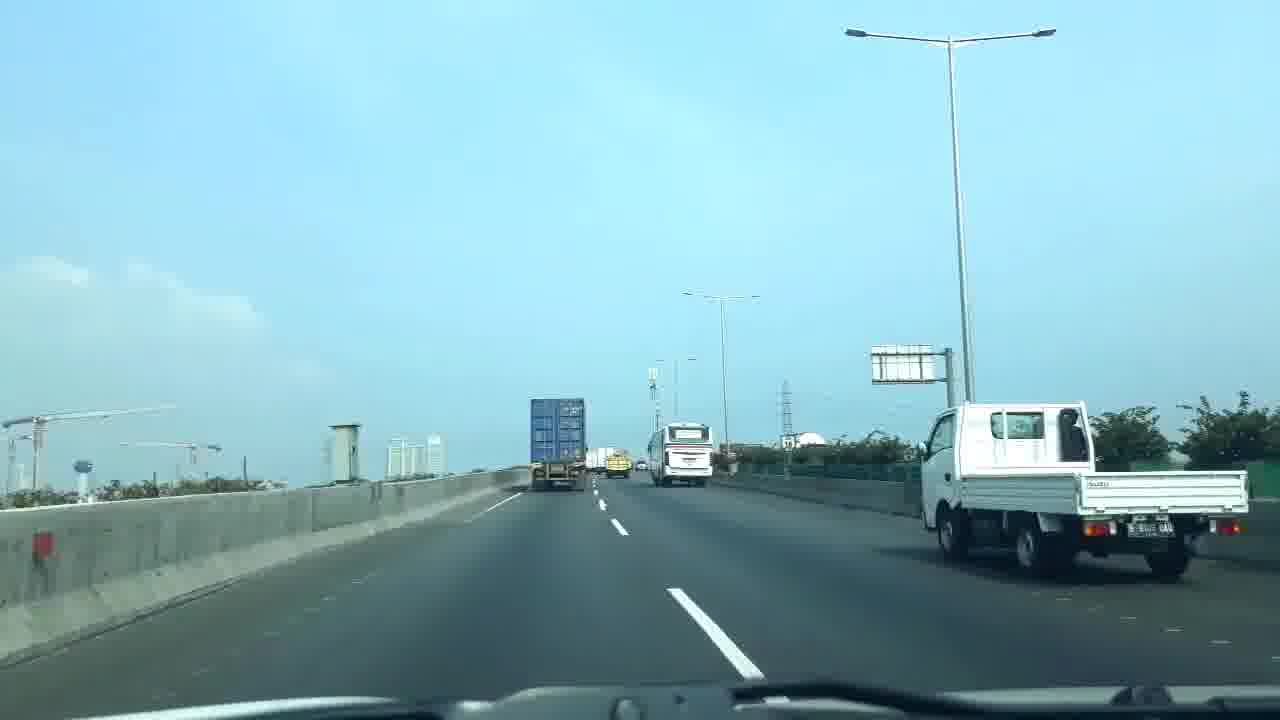plate_positive: (1127, 522, 1175, 538)
